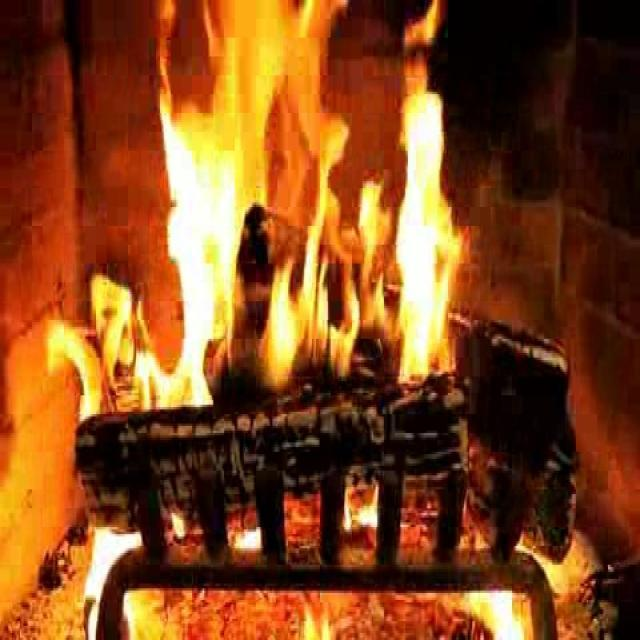Fire: (138, 5, 452, 383)
